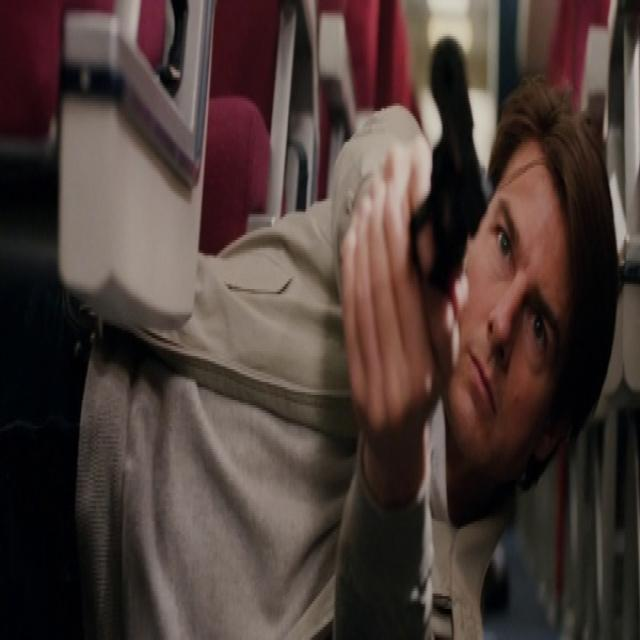weapons: (378, 39, 488, 314)
